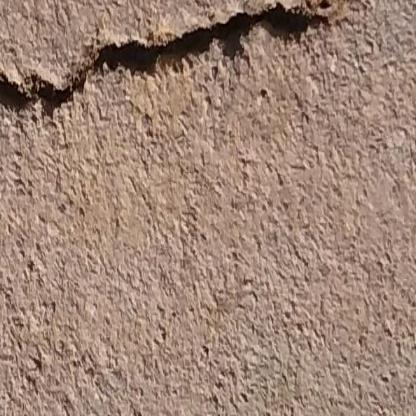Cracks: (0, 0, 361, 125)
